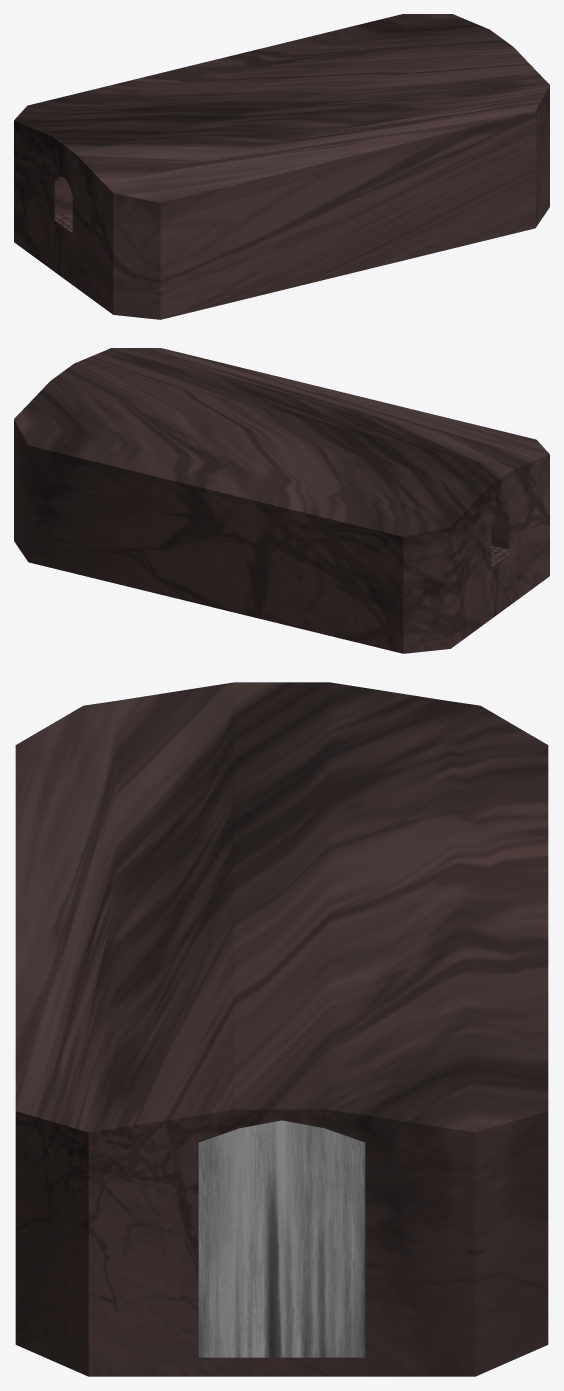
File: MOD_L1_Room3.fbx
3 views of the same model, one above another, from view 1: azimuth 30°, elevation 25°; view 2: azimuth 150°, elevation 25°; view 3: azimuth 270°, elevation 25° (orthographic). The views are drawn at different scales.
Visible parts, largest first — view 1: Cathedral; view 2: Cathedral; view 3: Cathedral.
Boxes of the visible parts, x1,y1,x2,y2 form: Cathedral: (14, 14, 549, 319); Cathedral: (14, 348, 549, 653); Cathedral: (15, 682, 548, 1376).
Bounding box in the file's own units: 493 × 143 × 259.
